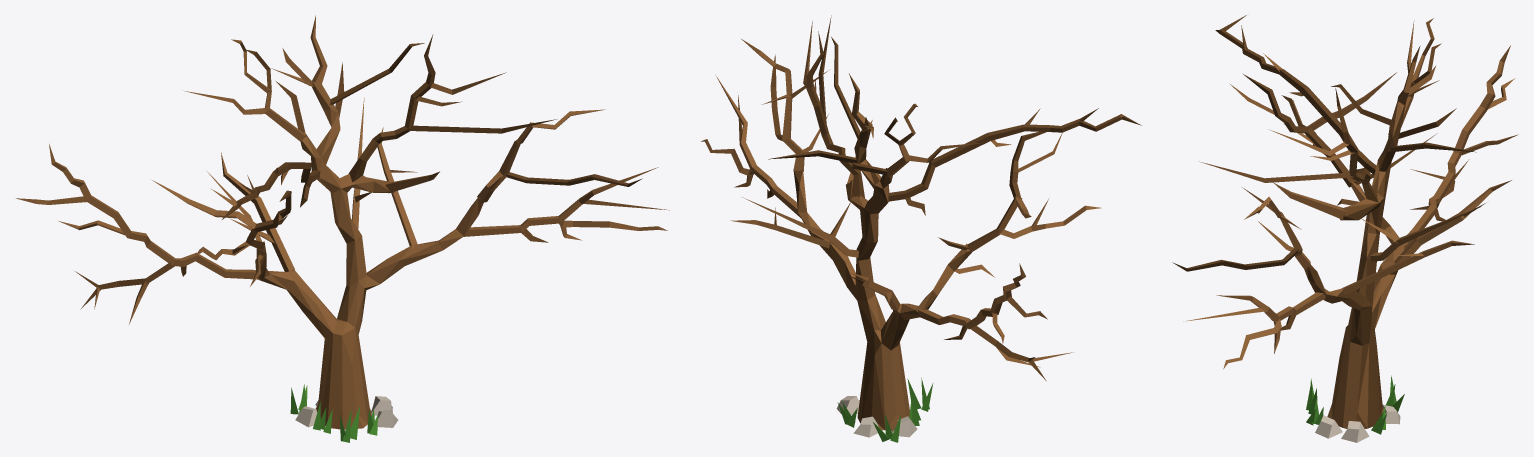
File: elm_1_bare.glb
3 renders of one model, left to right at view 1: azimuth 30°, elevation 25°; view 2: azimuth 150°, elevation 25°; view 3: azimuth 270°, elevation 25°, orthographic. The views are drawn at different scales.
Visible parts, largest first — view 1: elm_1_bare; view 2: elm_1_bare; view 3: elm_1_bare.
Boxes of the visible parts, x1=… form: elm_1_bare: x1=16, y1=15, x2=669, y2=442; elm_1_bare: x1=701, y1=15, x2=1141, y2=442; elm_1_bare: x1=1172, y1=15, x2=1518, y2=442.
Size of the model in its own units: 8.38 by 6.06 by 5.04.
